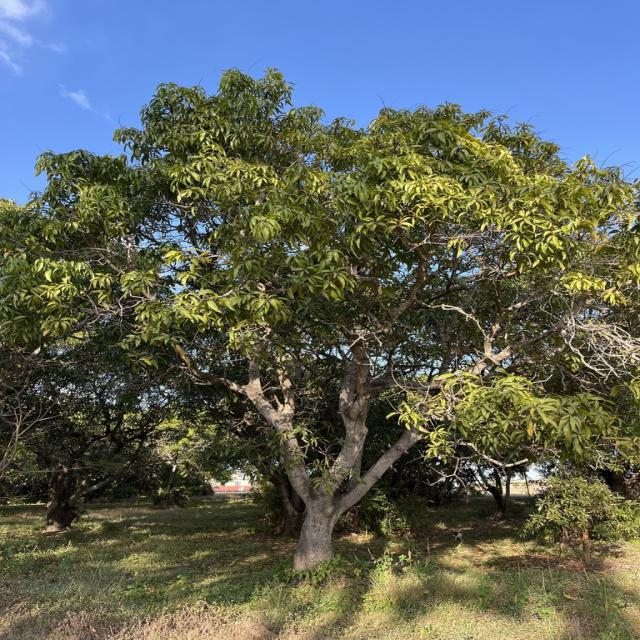Mango-Tree: (32, 115, 622, 563)
